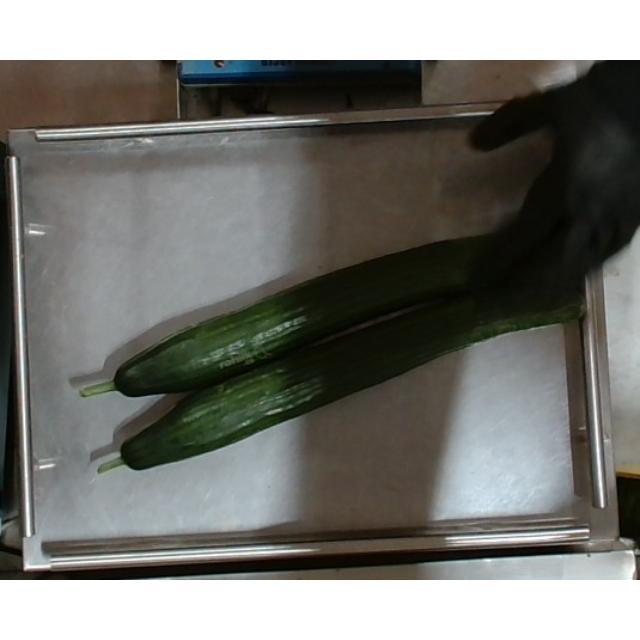cucumber: (120, 270, 580, 472), (110, 228, 588, 396)
